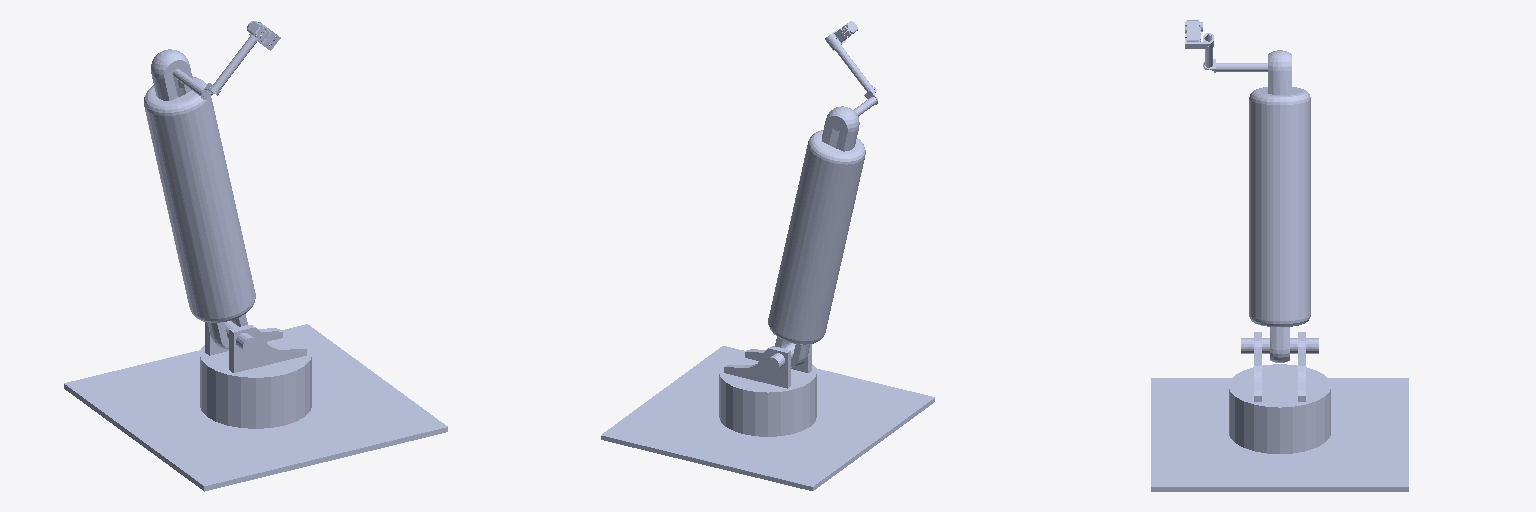
The robot description file, URDF, robot "robotic_manipulator":
<?xml version="1.0" encoding="utf-8"?>
<!--
This file is part of the ProVANT simulator project.
Licensed under the terms of the MIT open source license. More details at
https: //github.com/Guiraffo/ProVANT-Simulator/blob/master/LICENSE.md
-->
<robot name="robotic_manipulator">
  <!-- This link was created so that the manipulator is fixed to the ground plane. -->
  <link name="world" />
  <link name="base_link">
    <inertial>
      <origin xyz="-0.001633 -3.7247E-08 0.041253" rpy="0 0 0" />
      <mass value="5.9348" />
      <inertia ixx="0.071104" ixy="7.69715E-09" ixz="-0.001189108" iyy="0.071216" iyz="-3.84003E-08" izz="0.12106728" />
    </inertial>
    <visual>
      <origin xyz="0 0 0" rpy="0 0 0" />
      <geometry>
        <mesh filename="package://arm_model/meshes/base_link.STL" />
      </geometry>
      <material name="">
        <color rgba="0.79216 0.81961 0.93333 1" />
      </material>
    </visual>
    <collision>
      <origin xyz="0 0 0" rpy="0 0 0" />
      <geometry>
        <mesh filename="package://arm_model/meshes/base_link.STL" />
      </geometry>
    </collision>
  </link>
  <joint name="base_fixed" type="fixed">
    <parent link="world" />
    <child link="base_link" />
  </joint>
  <link name="link1">
    <inertial>
      <origin xyz="0.28436 6.6154E-08 0.00093129" rpy="0 0 0" />
      <mass value="1.8828" />
      <inertia ixx="0.0051206" ixy="-1.97882E-08" ixz="0.000472772" iyy="0.050395" iyz="9.14107E-10" izz="0.050310566" />
    </inertial>
    <visual>
      <origin xyz="0 0 0" rpy="0 0 0" />
      <geometry>
        <mesh filename="package://arm_model/meshes/link1.STL" />
      </geometry>
      <material name="">
        <color rgba="0.79216 0.81961 0.93333 1" />
      </material>
    </visual>
    <collision>
      <origin xyz="0 0 0" rpy="0 0 0" />
      <geometry>
        <mesh filename="package://arm_model/meshes/link1.STL" />
      </geometry>
    </collision>
  </link>
  <joint name="base_link1" type="revolute">
    <origin xyz="-0.055 0 0.17" rpy="-1.5708 -1.3513 -3.1416" />
    <parent link="base_link" />
    <child link="link1" />
    <axis xyz="0 0 1" />
    <limit lower="-1.57079633" upper="1.57079633" effort="100" velocity="20" />
  </joint>
  <link name="link2">
    <inertial>
      <!-- Values considering that the link2 doesn't have the gripper attached to it. -->
      <origin xyz="0.28975704 0 -0.0235" rpy="0 0 0" />
      <mass value="1.9547537" />
      <inertia ixx="0.005261" ixy="1.72821E-08" ixz="-1.41385E-08" iyy="0.055753" iyz="-1.0301E-09" izz="0.055628321" />
    </inertial>
    <visual>
      <origin xyz="0 0 0" rpy="0 0 0" />
      <geometry>
        <mesh filename="package://arm_model/meshes/link2.STL" />
      </geometry>
      <material name="">
        <color rgba="0.79216 0.81961 0.93333 1" />
      </material>
    </visual>
    <collision>
      <origin xyz="0 0 0" rpy="0 0 0" />
      <geometry>
        <mesh filename="package://arm_model/meshes/link2.STL" />
      </geometry>
    </collision>
  </link>
  <joint name="link1_link2" type="revolute">
    <origin xyz="0.554 0 0.1265" rpy="0 0 -0.99459" />
    <parent link="link1" />
    <child link="link2" />
    <axis xyz="0 0 1" />
    <limit lower="-1.57079633" upper="1.57079633" effort="100" velocity="20" />
  </joint>

  <!-- Additional configurations for the model -->
  <gazebo>
    <plugin name="actuator" filename="libgazebo_ros_ArmForces.so">
      <joint1>base_link1</joint1>
      <joint2>link1_link2</joint2>
      <joint1_torque_topic>joint1_torque</joint1_torque_topic>
      <joint2_torque_topic>joint2_torque</joint2_torque_topic>
    </plugin>
  </gazebo>

  <!-- Additional configuration for the links -->
  <gazebo reference="base_link">
    <static>false</static>
  </gazebo>

  <gazebo reference="link1"></gazebo>

  <gazebo reference="link2"></gazebo>

  <!-- Additional configuration for the joints -->
  <gazebo reference="base_link1">
    <provideFeedback>true</provideFeedback>
  </gazebo>

  <gazebo refernce="link1_link2">
    <provideFeedback>true</provideFeedback>
  </gazebo>

</robot>

--- Render facts (derived) ---
Views: 3 orthographic renders of the robot side by side, from view 1: azimuth 30°, elevation 25°; view 2: azimuth 150°, elevation 25°; view 3: azimuth 270°, elevation 25°.
Model robotic_manipulator with 4 links and 3 joints (2 revolute, 1 fixed), rooted at world, posed all joints at 0.
Links seen in each view (by area): view 1: base_link, link1, link2; view 2: base_link, link1, link2; view 3: base_link, link1, link2.
Boxes of the visible links, box(x1,y1,x2,y2) form: base_link: box(64, 321, 447, 491); link1: box(144, 49, 255, 348); link2: box(201, 21, 280, 99); base_link: box(601, 343, 934, 490); link1: box(768, 97, 876, 367); link2: box(825, 21, 877, 104); base_link: box(1151, 332, 1408, 491); link1: box(1216, 50, 1310, 362); link2: box(1185, 20, 1215, 72).
Bounding box of the posed robot: 0.5 × 0.5 × 0.8492 m (x, y, z).
Meshes: 3 distinct files referenced, 3 mesh visuals loaded (3 binary STL).